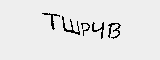В: (105, 20, 124, 41)
Р: (78, 21, 90, 41)
Т: (41, 9, 59, 34)
Ч: (91, 19, 106, 44)
Ш: (61, 15, 80, 37)
